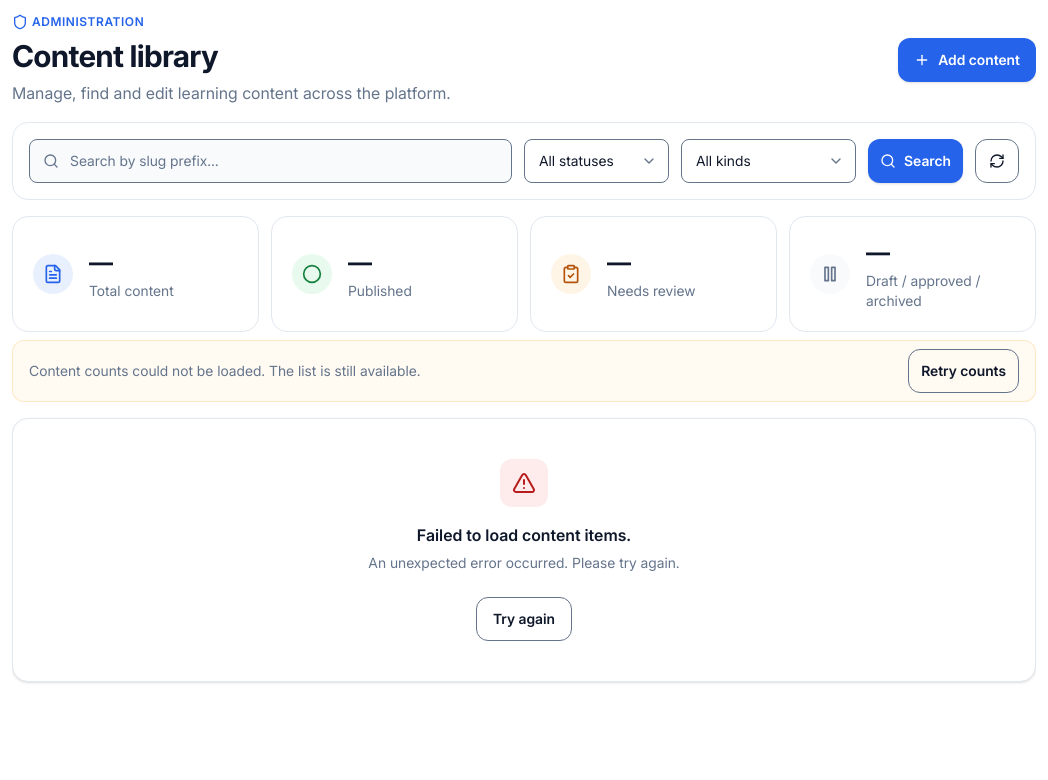
Test: content library › distinguishes a failed list from an empty result and retries without exposing server text
The image size is (1048, 780).
Check: the heading "Failed to load content items." is shown, box [417,522,631,546]
Check: the text "No content items match these filters." is not shown
Step 1. Click the button "Try again" → (524,618), box [476,596,572,640]
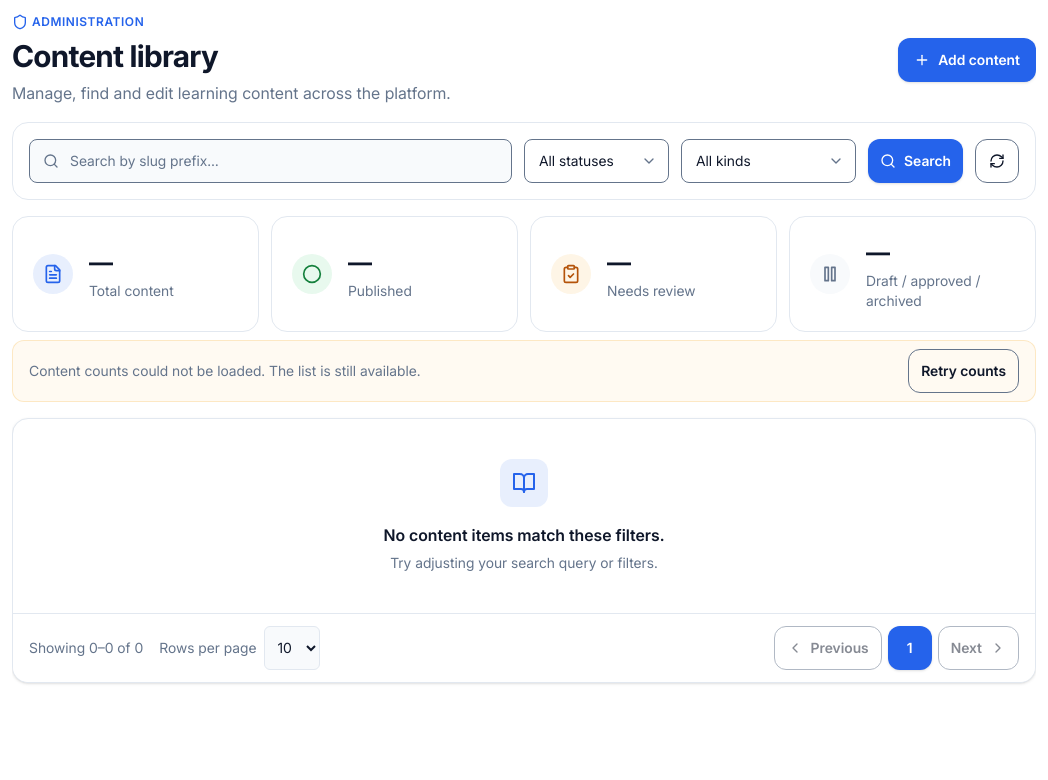
Check: the heading "No content items match these filters." is shown, box [384,522,664,546]
